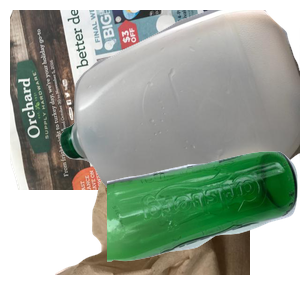glass: (107, 149, 300, 300)
paper: (10, 10, 250, 190)
plastic: (60, 10, 300, 190)
trash: (52, 120, 292, 300)
